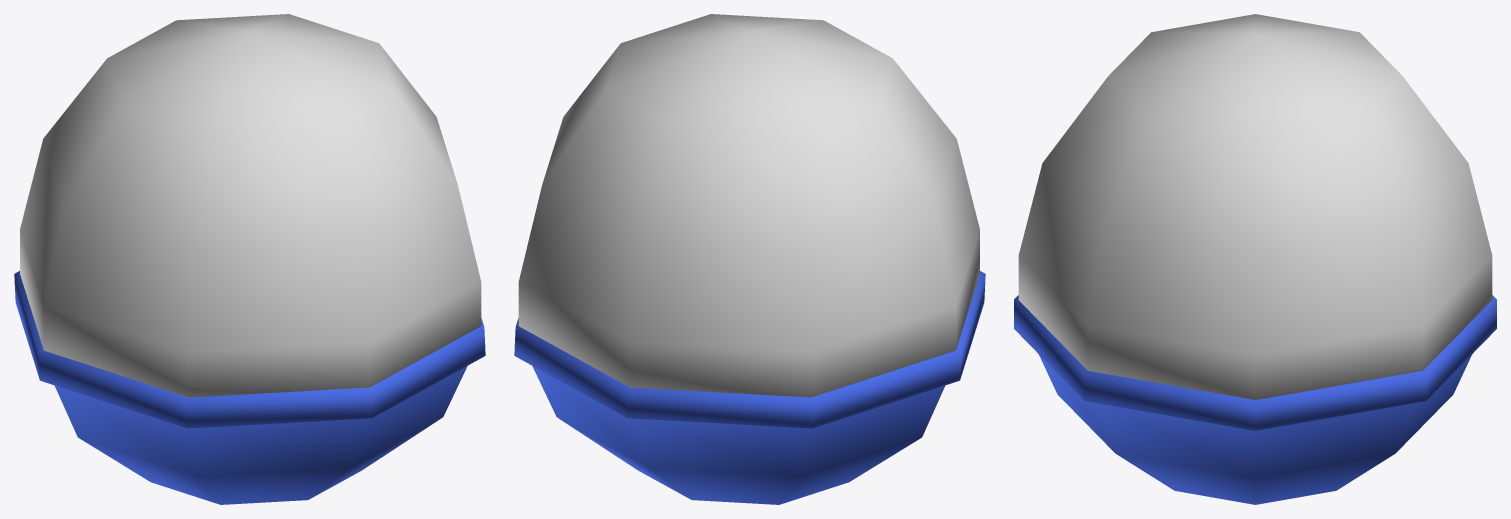
The model's file is Gacha.glb.
3 renders of one model, left to right at view 1: azimuth 30°, elevation 25°; view 2: azimuth 150°, elevation 25°; view 3: azimuth 270°, elevation 25°, orthographic.
Parts seen in each view (by area): view 1: Gacha_Top, Gacha_Bottom; view 2: Gacha_Top, Gacha_Bottom; view 3: Gacha_Top, Gacha_Bottom.
Part boxes in pixels (<box>): Gacha_Top: <box>20,14,481,397</box>; Gacha_Bottom: <box>14,271,485,504</box>; Gacha_Top: <box>518,14,979,397</box>; Gacha_Bottom: <box>514,271,985,504</box>; Gacha_Top: <box>1018,14,1492,399</box>; Gacha_Bottom: <box>1014,295,1496,504</box>.
Size of the model in its own units: 1.06 by 1.07 by 1.06.
